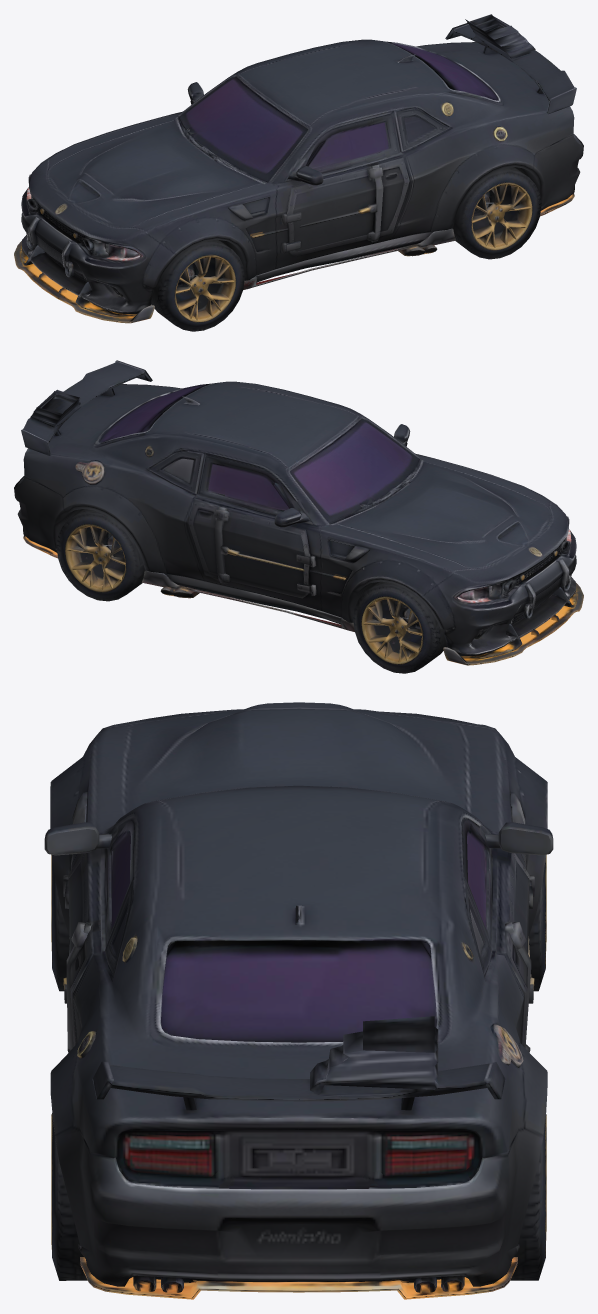
File: SM_ArmoredRaceCar.fbx
The picture shows the model from 3 angles, top to bottom: view 1: azimuth 30°, elevation 25°; view 2: azimuth 150°, elevation 25°; view 3: azimuth 270°, elevation 25°; orthographic projection. The views are drawn at different scales.
Parts seen in each view (by area): view 1: SM_ArmoredRaceCar; view 2: SM_ArmoredRaceCar; view 3: SM_ArmoredRaceCar.
Boxes of the visible parts, box(x1,y1,x2,y2) form: SM_ArmoredRaceCar: box(14, 14, 583, 331); SM_ArmoredRaceCar: box(14, 360, 583, 673); SM_ArmoredRaceCar: box(44, 702, 553, 1299).
Size of the model in its own units: 0.9995 by 0.3169 by 0.4399.
